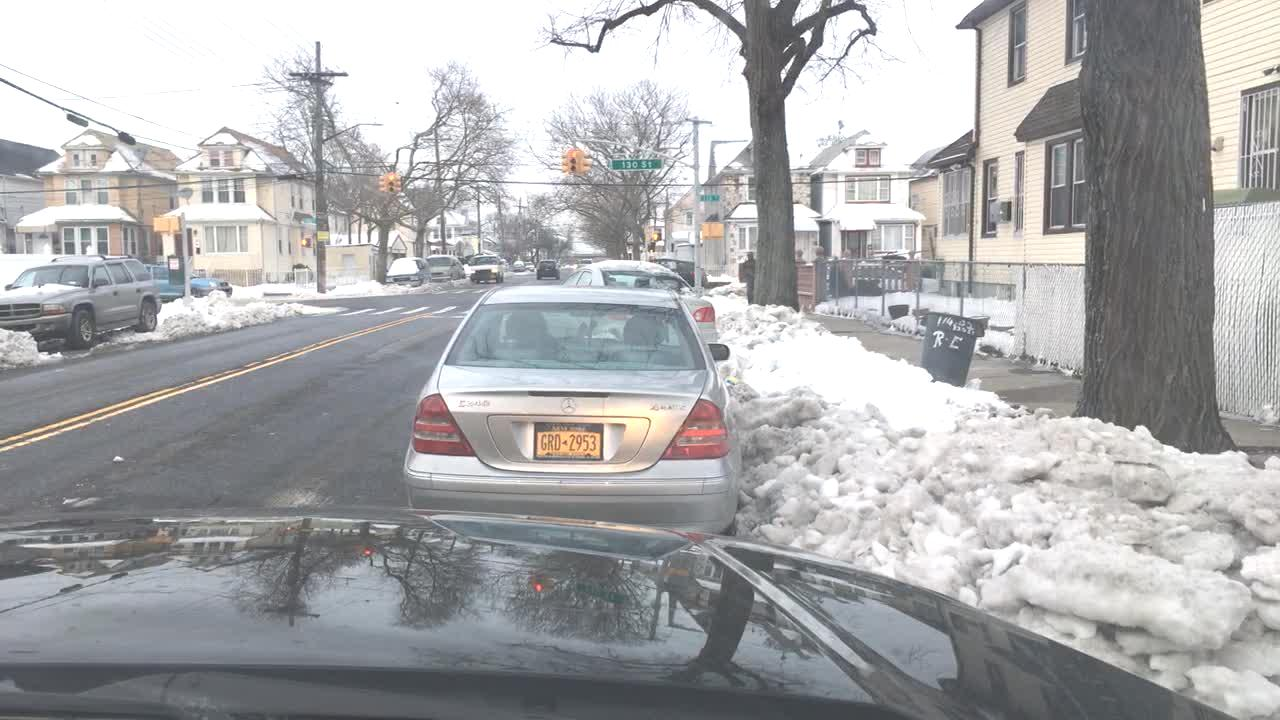Mercedes: (558, 396, 579, 417)
